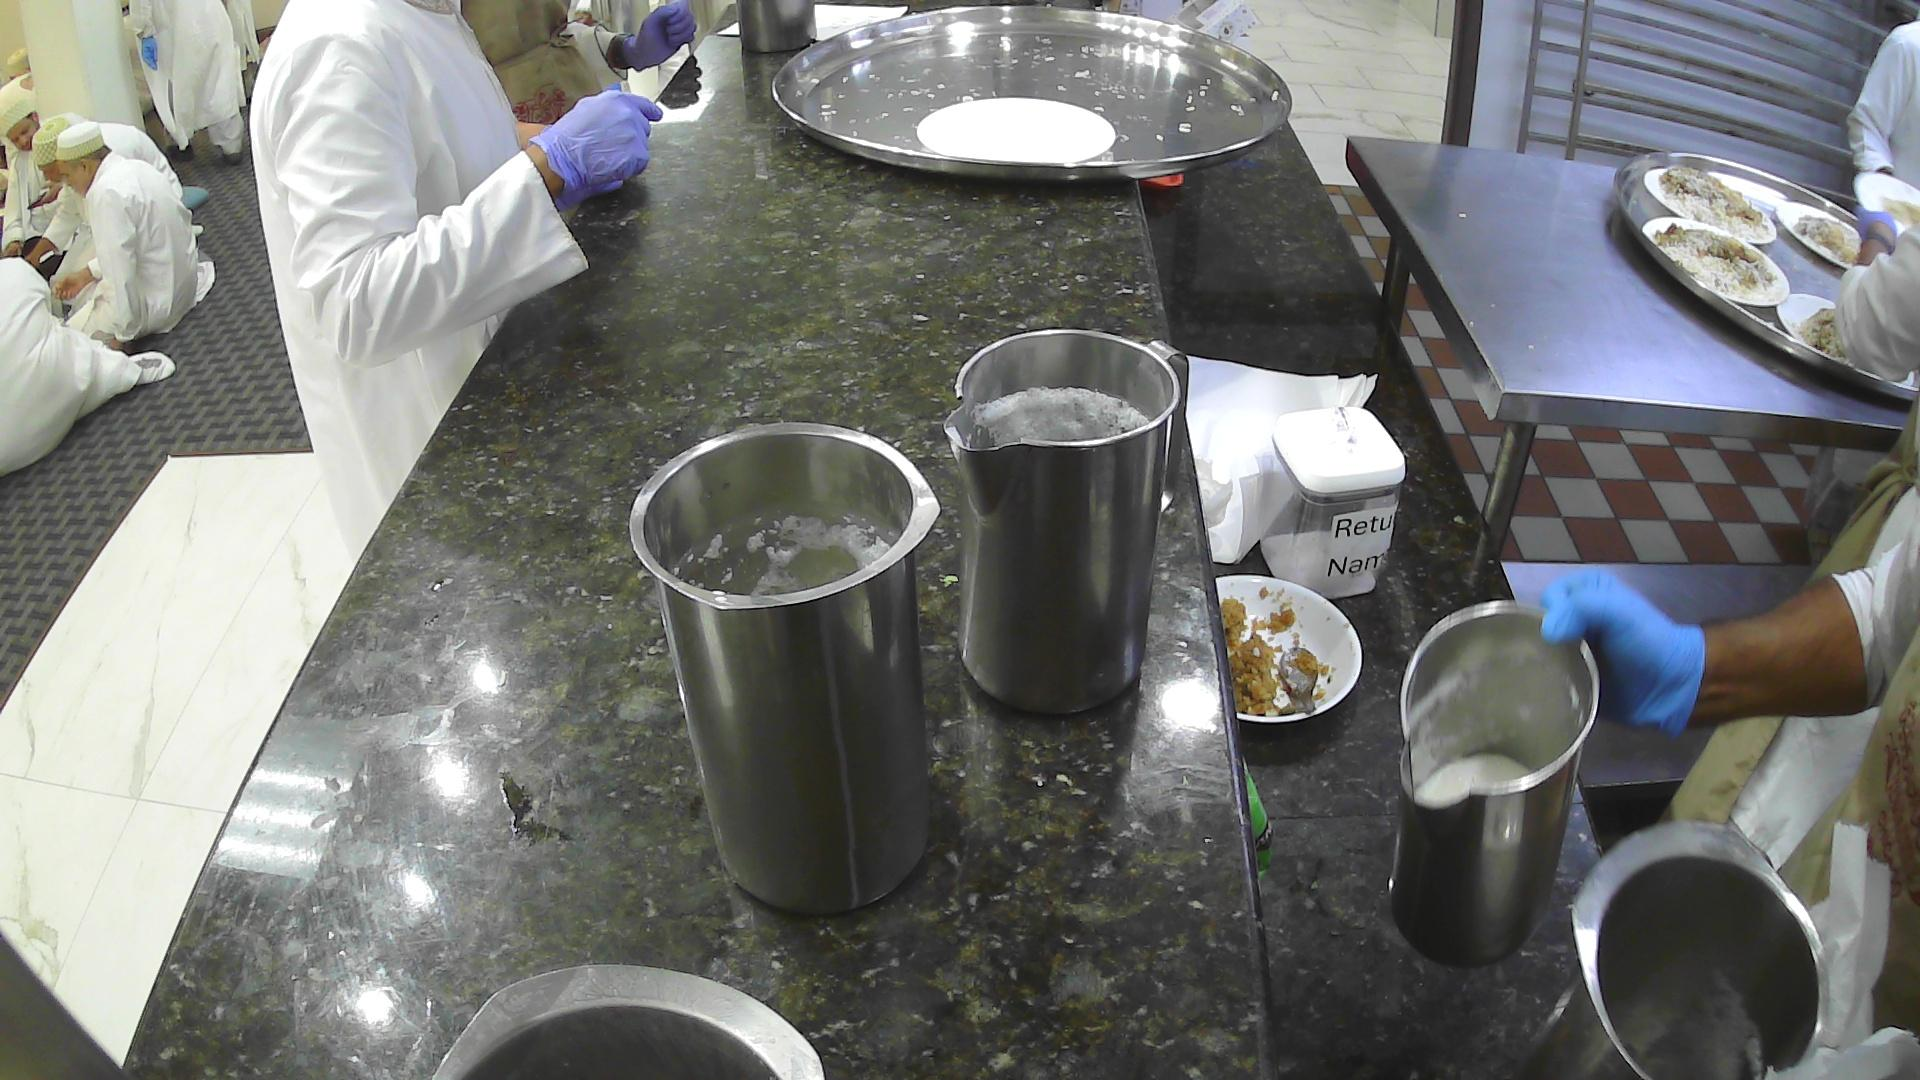thaal: (769, 3, 1295, 185), (1611, 149, 1920, 407)
